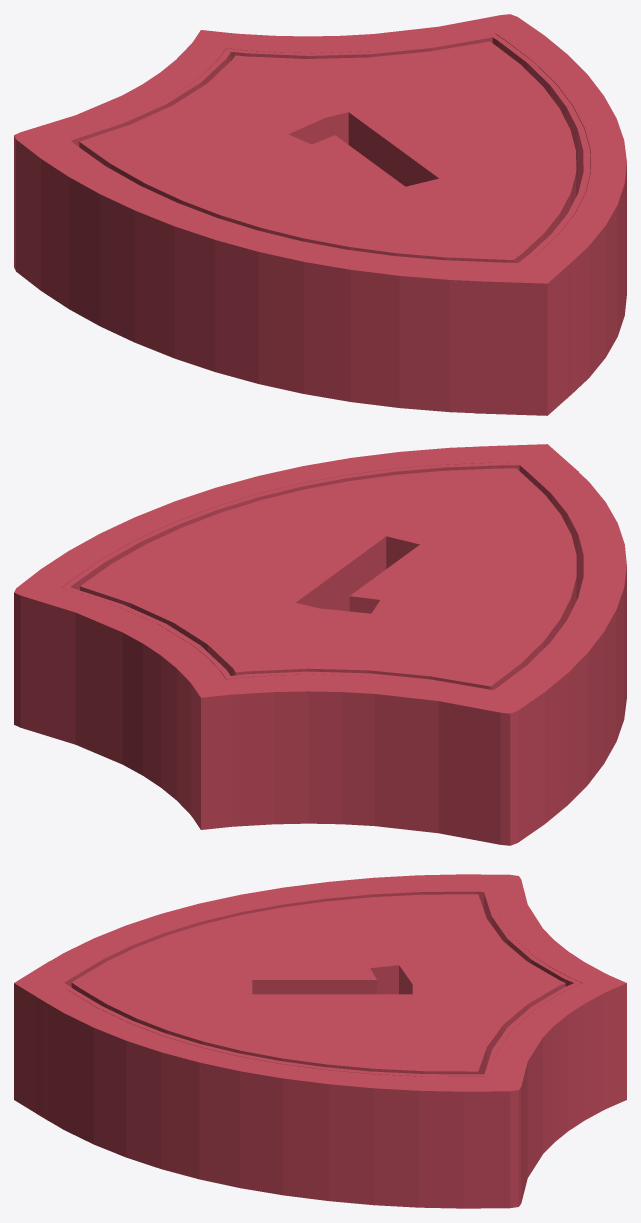
The model's file is icon.glb.
3 renders of one model, top to bottom at view 1: azimuth 30°, elevation 25°; view 2: azimuth 150°, elevation 25°; view 3: azimuth 270°, elevation 25°, orthographic. The views are drawn at different scales.
Parts seen in each view (by area): view 1: Mesh_Mesh_head_geo.001_lambert2SG.001; view 2: Mesh_Mesh_head_geo.001_lambert2SG.001; view 3: Mesh_Mesh_head_geo.001_lambert2SG.001.
Boxes of the visible parts, x1,y1,x2,y2 form: Mesh_Mesh_head_geo.001_lambert2SG.001: (14,14,626,415); Mesh_Mesh_head_geo.001_lambert2SG.001: (14,444,626,845); Mesh_Mesh_head_geo.001_lambert2SG.001: (14,874,626,1208).
Size of the model in its own units: 83.77 by 21 by 99.8.
